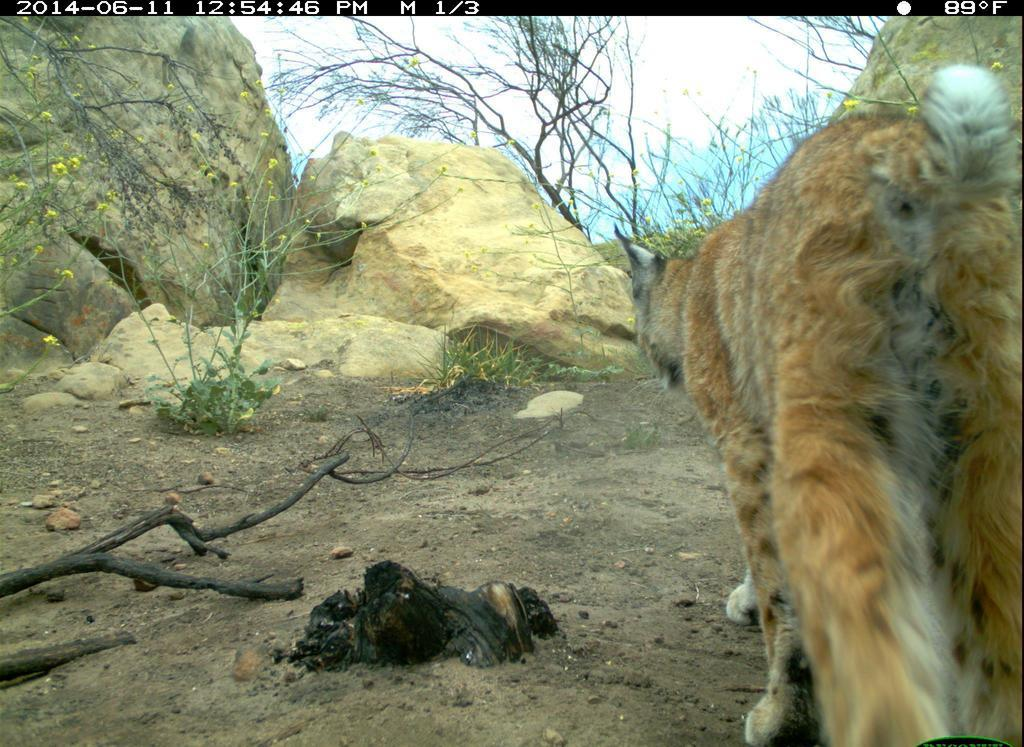bobcat: (605, 65, 1022, 747)
